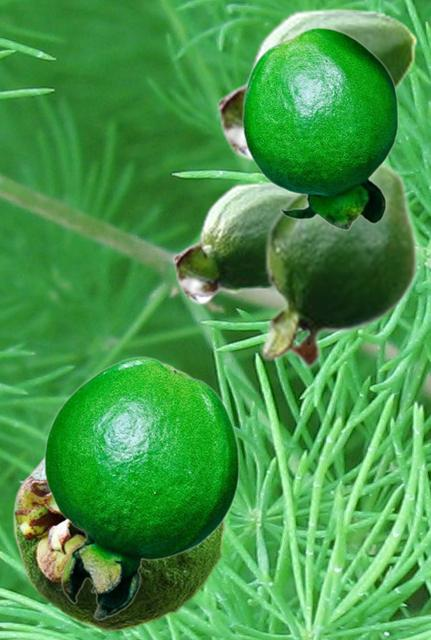guava: (43, 356, 239, 619), (12, 453, 225, 631), (260, 158, 417, 369), (241, 27, 398, 229), (217, 7, 417, 160), (173, 181, 292, 304), (14, 477, 80, 554)
